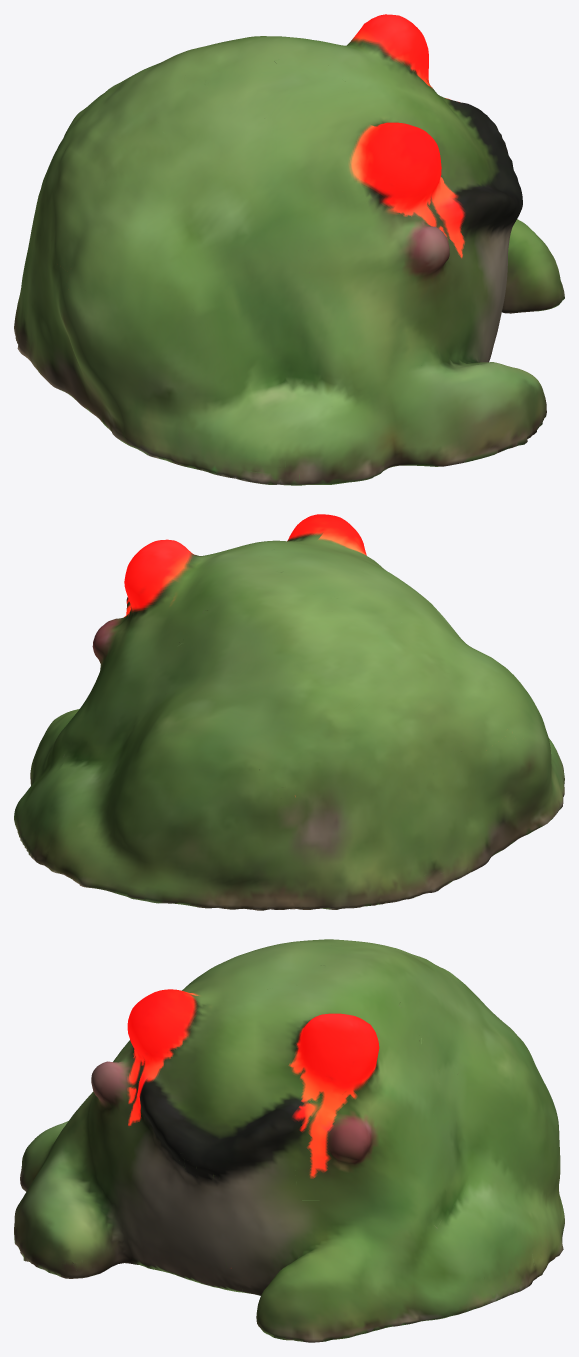
The model's file is evil_froge.glb.
3 renders of one model, top to bottom at view 1: azimuth 30°, elevation 25°; view 2: azimuth 150°, elevation 25°; view 3: azimuth 270°, elevation 25°, orthographic. The views are drawn at different scales.
Visible parts, largest first — view 1: Good_Froge-Clean_up_BaseSculpt; view 2: Good_Froge-Clean_up_BaseSculpt; view 3: Good_Froge-Clean_up_BaseSculpt.
Part boxes in pixels (box(x1,y1,x2,y2)): Good_Froge-Clean_up_BaseSculpt: box(14, 14, 564, 485); Good_Froge-Clean_up_BaseSculpt: box(14, 514, 564, 910); Good_Froge-Clean_up_BaseSculpt: box(14, 939, 564, 1342).
Size of the model in its own units: 0.9154 by 0.4915 by 0.9299.
Materials: 1 (1 with a texture image).
